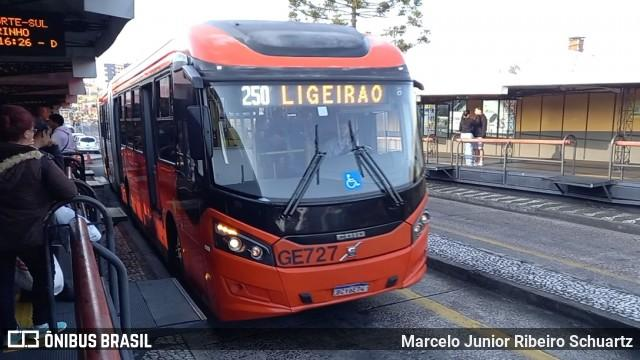LIGEIRAO: (276, 82, 386, 108)
